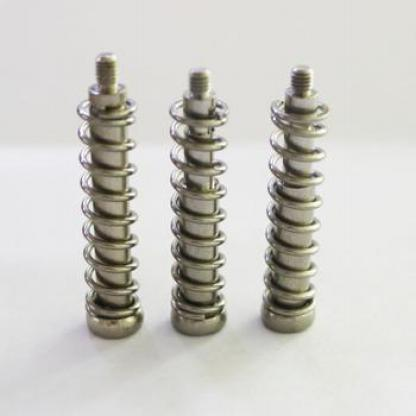FOD: (73, 94, 145, 318), (258, 97, 328, 319), (166, 95, 232, 320)
